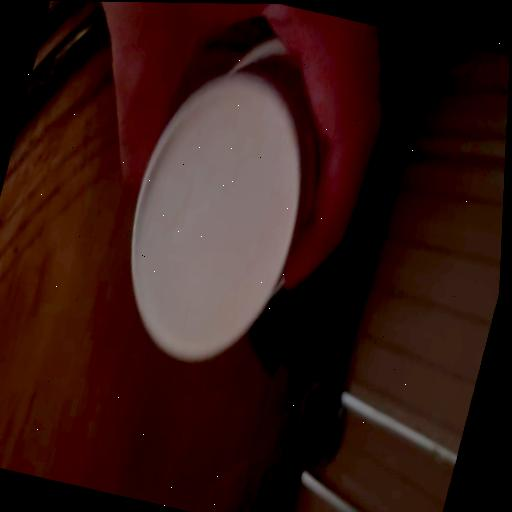Ly_giay: (131, 38, 318, 359)
